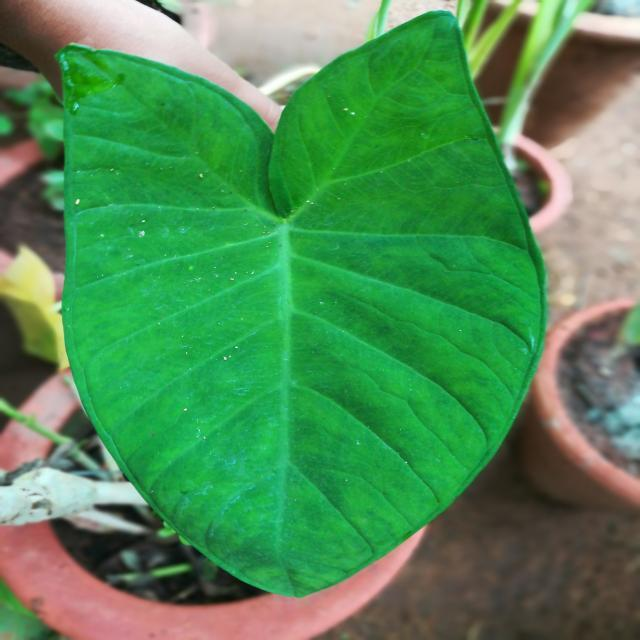leaf: (55, 9, 550, 598)
